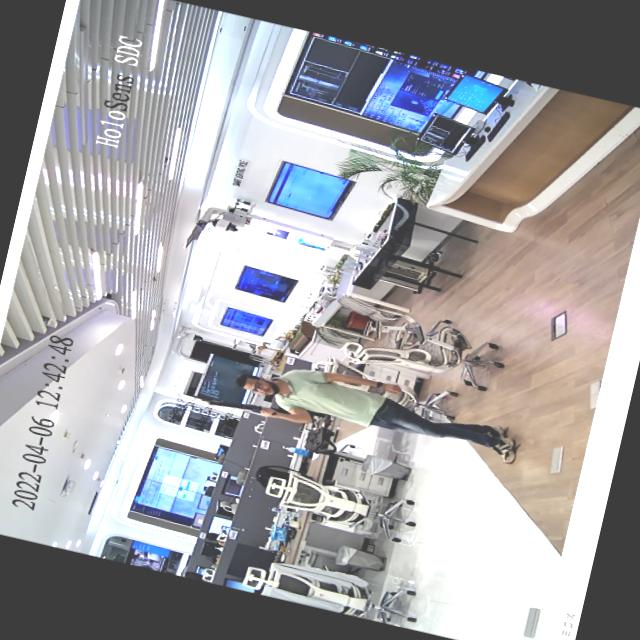long weapon: (202, 388, 301, 426)
